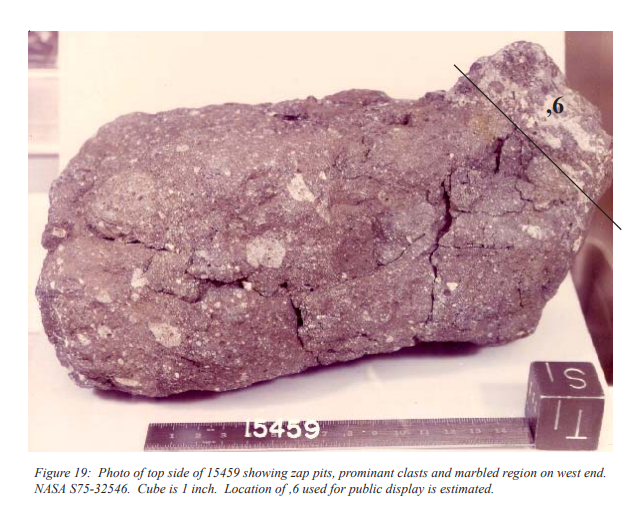Breccia: (93, 97, 580, 377)
